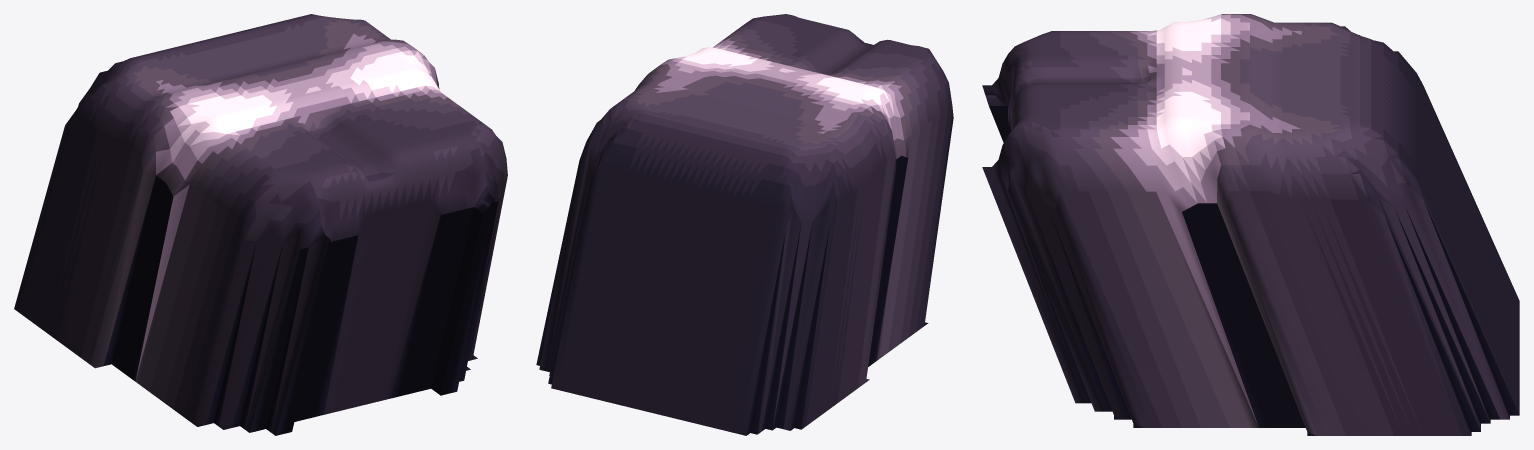
File: deli_capsule_279.glb
3 renders of one model, left to right at view 1: azimuth 30°, elevation 25°; view 2: azimuth 150°, elevation 25°; view 3: azimuth 270°, elevation 25°, orthographic. The views are drawn at different scales.
Parts seen in each view (by area): view 1: deli_capsule_279; view 2: deli_capsule_279; view 3: deli_capsule_279.
Part boxes in pixels (left/top/right/bottom): deli_capsule_279: left=14, top=14, right=507, bottom=435; deli_capsule_279: left=536, top=14, right=953, bottom=435; deli_capsule_279: left=982, top=14, right=1519, bottom=435.
Size of the model in its own units: 19 by 16.39 by 27.83.
